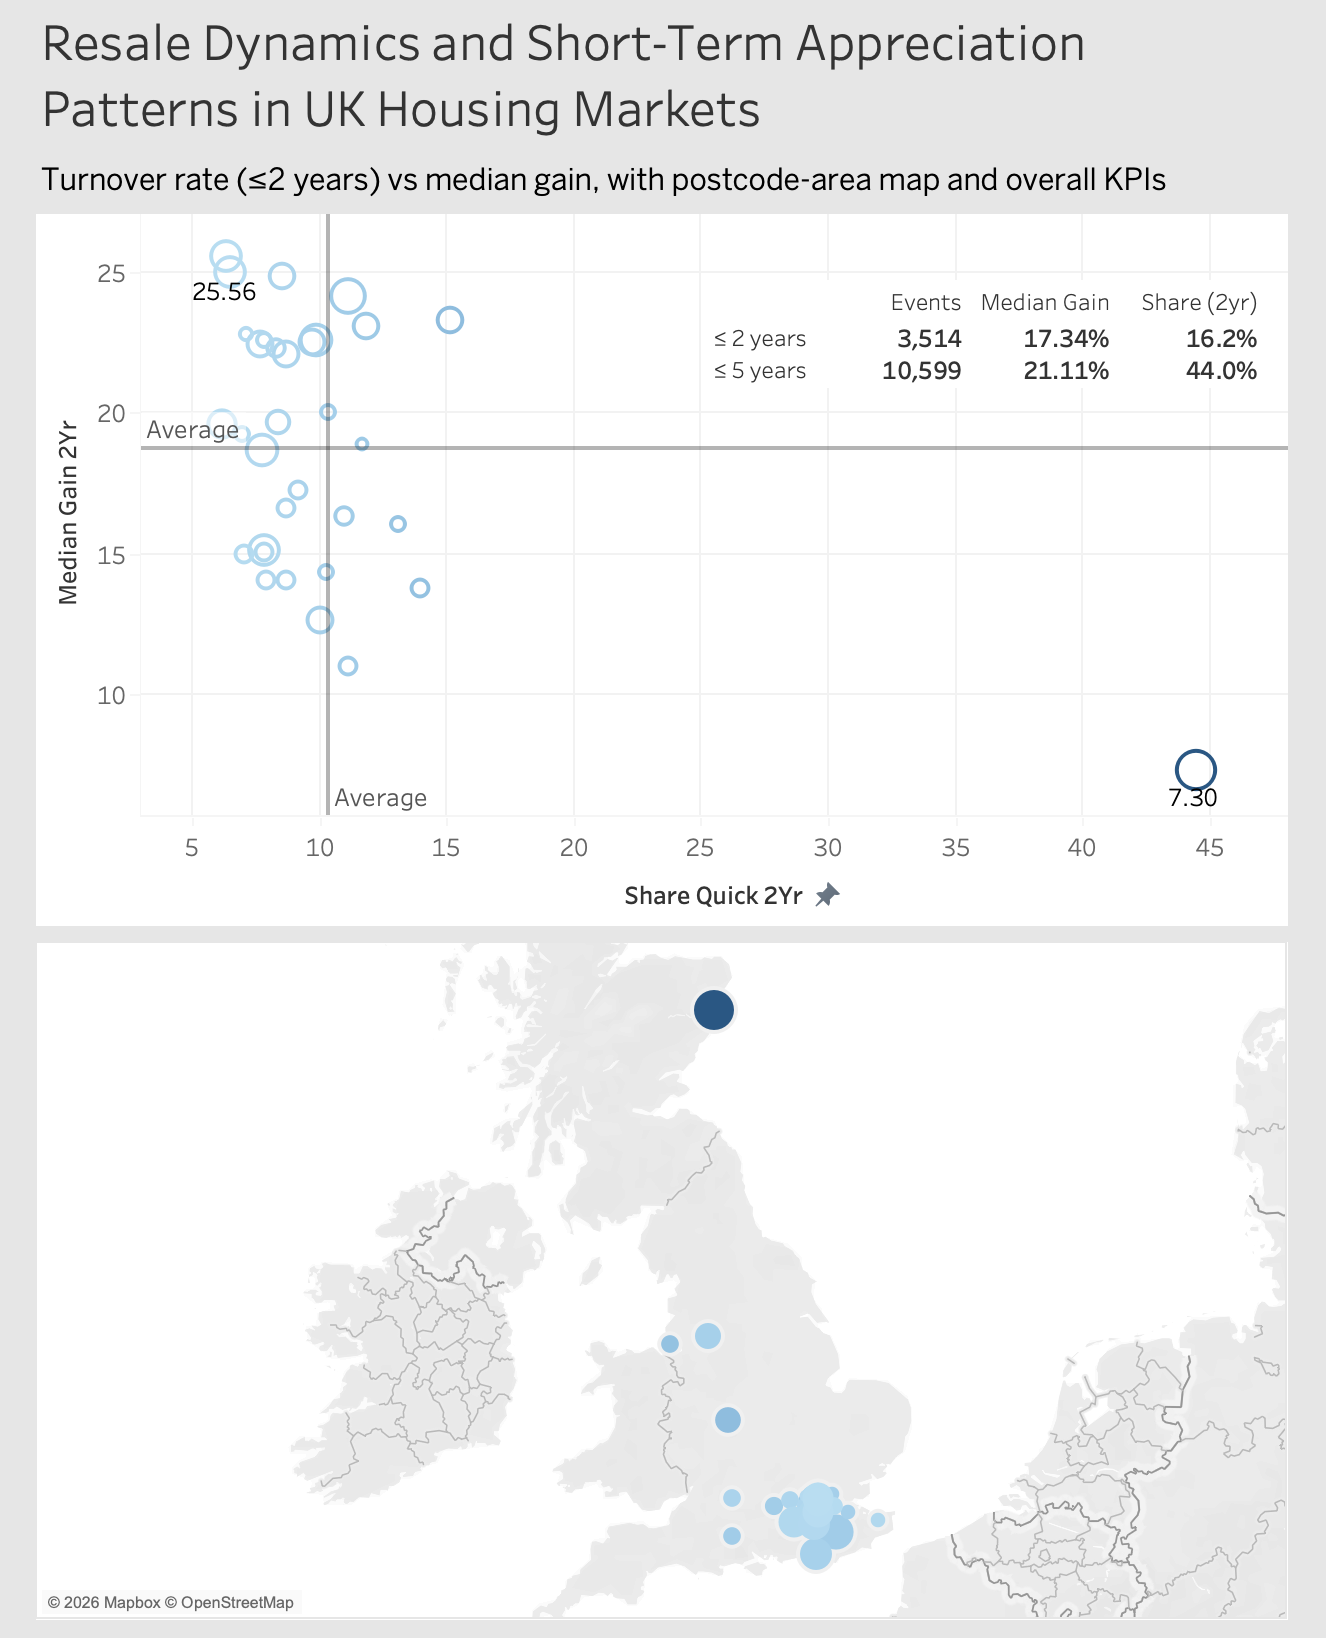

This screenshot's page, from the dashboard's own definition file:
{"tool":"tableau","page":{"name":"Resale Dynamics and Short-Term Appreciation Patterns in UK Housing Markets","canvas":[650,860],"ordinal":0},"visuals":[{"type":"title","box":[8,10.6,634,100.9]},{"type":"text","box":[8,111.5,634,35.8]},{"type":"worksheet","title":"Turnover vs Gain (2yr)","mark":"Automatic","rows":["median_gain_2yr"],"cols":["share_quick_2yr"],"box":[8,147.3,634,359.7]},{"type":"worksheet","title":"Q3 Summary (2yr vs 5 yr)","mark":"Automatic","rows":["window"],"box":[345,153.2,295,71.6]},{"type":"worksheet","title":"UK Map: Quick Resales (2yr) ","mark":"Automatic","rows":["latitude"],"cols":["longitude"],"box":[8,507,634,342.4]}]}

Visuals, with their boxes on the page's 650x860 design canvas (x1, y1, x2, y2). These are canvas units, not pixel positions in the 1326x1638 screenshot, which may show the page scaled, cropped or inside an application window:
title: locate(8, 11, 642, 112)
text: locate(8, 112, 642, 147)
"Turnover vs Gain (2yr)" worksheet: locate(8, 147, 642, 507)
"Q3 Summary (2yr vs 5 yr)" worksheet: locate(345, 153, 640, 225)
"UK Map: Quick Resales (2yr) " worksheet: locate(8, 507, 642, 849)
